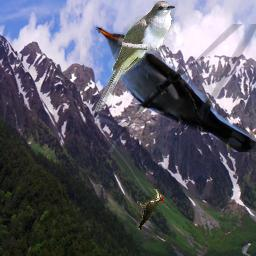Cuckoo: (92, 24, 256, 152), (94, 1, 175, 112)
Woodpecker: (136, 189, 164, 231)
